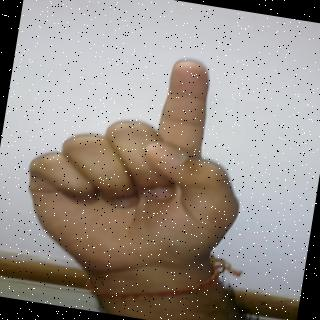I: (18, 32, 253, 286)
